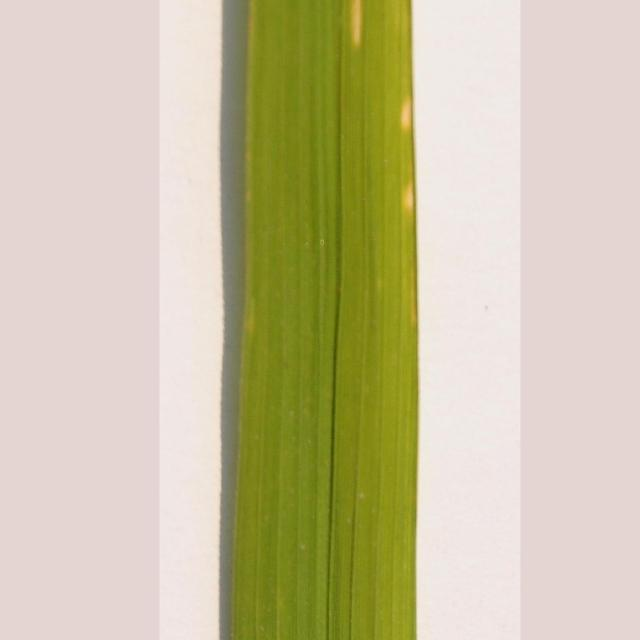Bacterial leaf blight: (197, 0, 458, 640)
